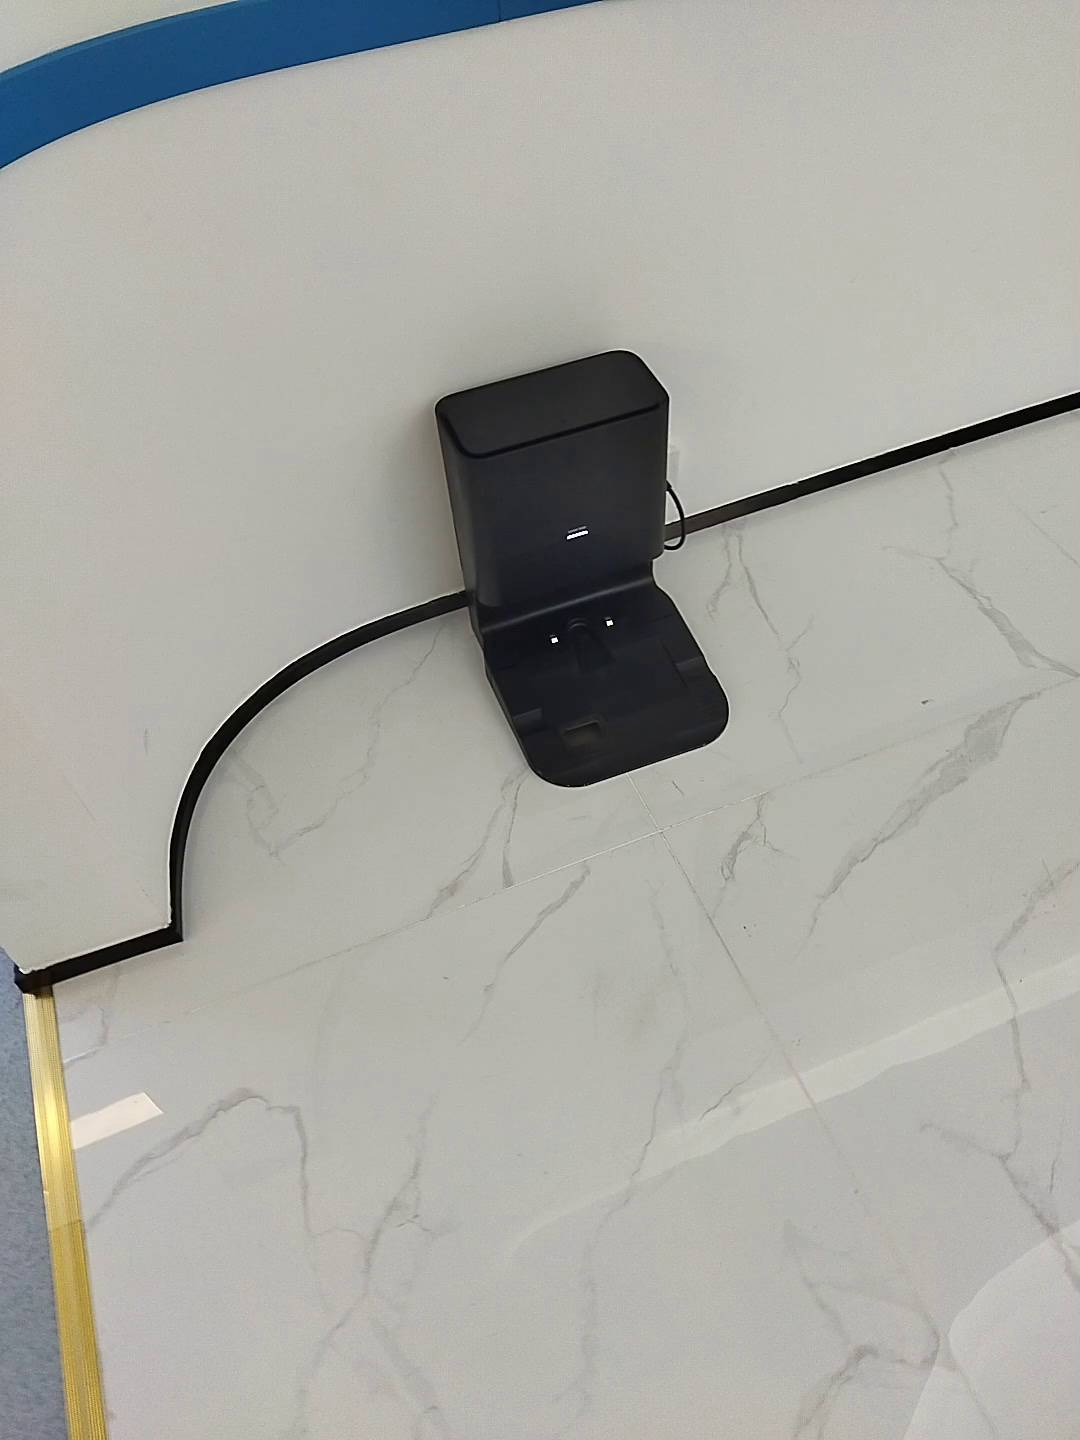dust collecting barrel: (433, 346, 731, 789)
